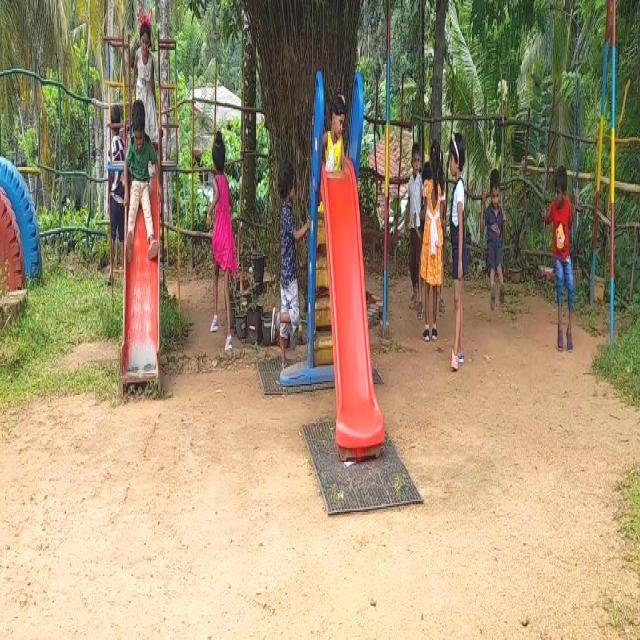child: (199, 126, 243, 374), (266, 158, 306, 370), (542, 160, 584, 357), (123, 100, 163, 267), (446, 125, 470, 378), (420, 148, 446, 362), (482, 157, 512, 319)
